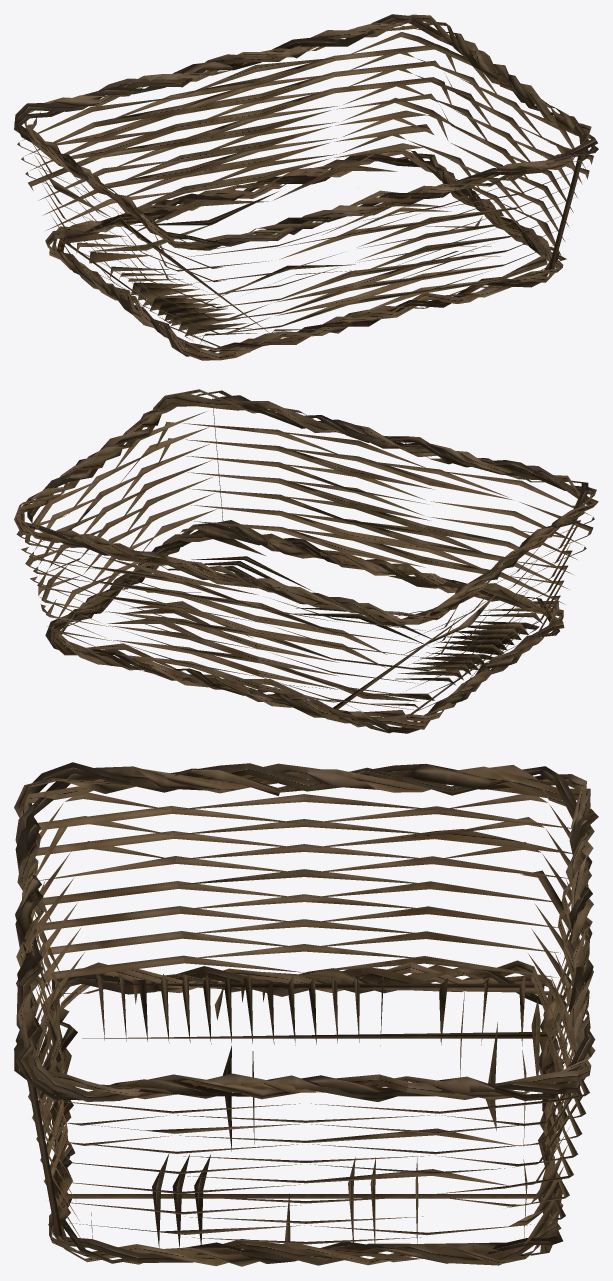
File: wicker_basket_01.glb
3 views of the same model, one above another, from view 1: azimuth 30°, elevation 25°; view 2: azimuth 150°, elevation 25°; view 3: azimuth 270°, elevation 25° (orthographic). The views are drawn at different scales.
Parts seen in each view (by area): view 1: wicker_basket_01; view 2: wicker_basket_01; view 3: wicker_basket_01.
Boxes of the visible parts, x1,y1,x2,y2 form: wicker_basket_01: (14, 14, 598, 360); wicker_basket_01: (14, 389, 598, 733); wicker_basket_01: (14, 762, 598, 1266).
Bounding box in the file's own units: 0.383 × 0.1174 × 0.2929.
Materials: 1 (1 with a texture image).
